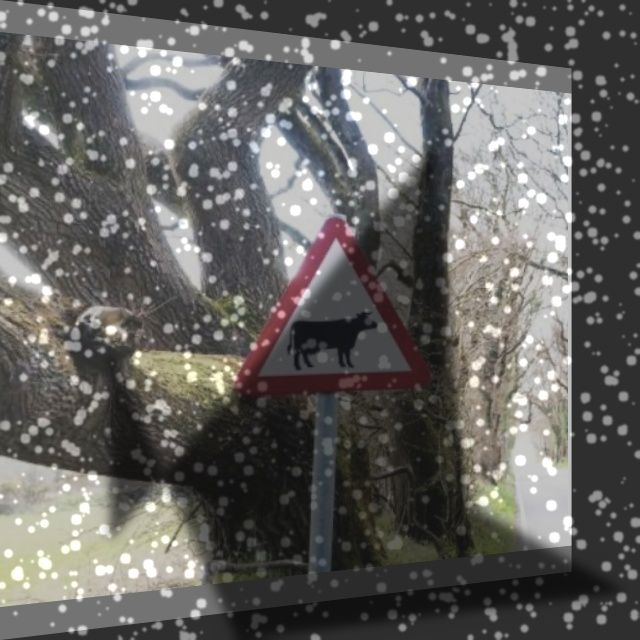Cattle: (238, 210, 436, 397)
